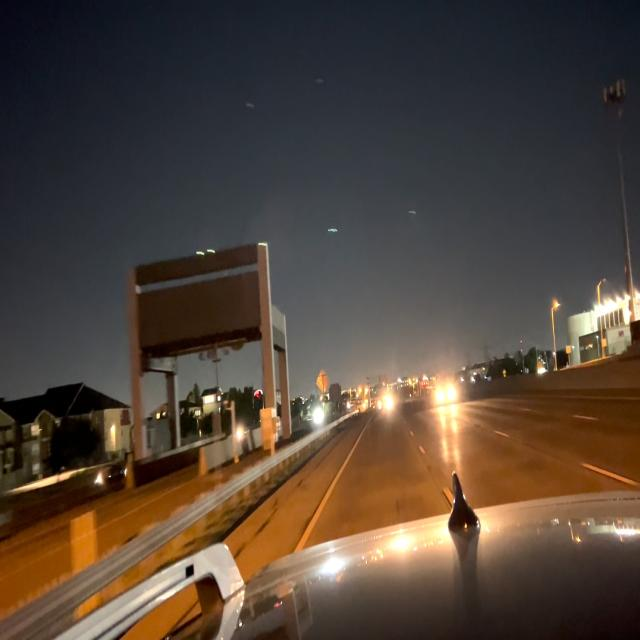back-of-sign: (317, 369, 329, 393)
